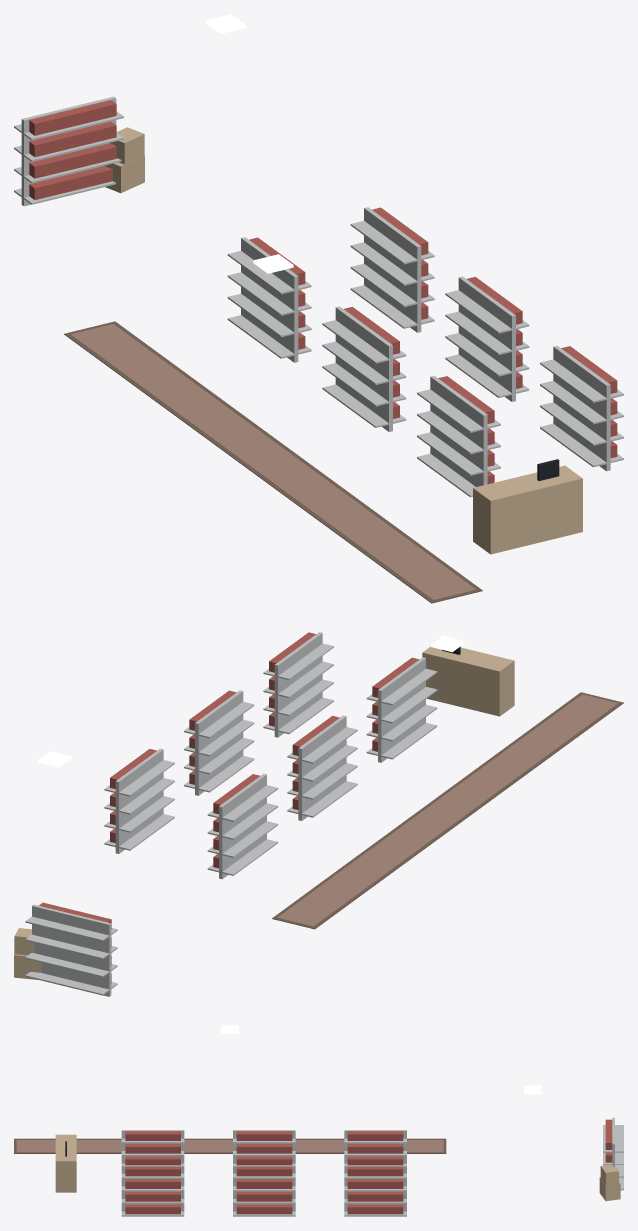
The model's file is fine-s0.glb.
3 renders of one model, top to bottom at view 1: azimuth 30°, elevation 25°; view 2: azimuth 150°, elevation 25°; view 3: azimuth 270°, elevation 25°, orthographic. The views are drawn at different scales.
Visible parts, largest first — view 1: soft-s0, shelving.000, shop-counter.000, shelf.003, shelf.004, shelf.001, shelf.005, shelf.002, shelf.000, cardboard-box.000; view 2: soft-s0, shelving.000, shelf.001, shelf.004, shelf.000, shelf.002, shelf.003, shelf.005, shop-counter.000, cardboard-box.000; view 3: soft-s0, shelf.005, shelf.003, shelf.004, shelf.002, shelf.000, shelf.001, shop-counter.000, shelving.000, cardboard-box.000.
Boxes of the visible parts, box(x1,y1,x2,y2) form: soft-s0: box(64, 321, 482, 603); shelving.000: box(14, 96, 123, 206); shop-counter.000: box(473, 459, 582, 554); shelf.003: box(350, 207, 434, 332); shelf.004: box(445, 276, 529, 401); shelf.001: box(322, 306, 406, 431); shelf.005: box(540, 345, 623, 471); shelf.002: box(417, 375, 500, 497); shelf.000: box(227, 237, 311, 362); cardboard-box.000: box(104, 127, 144, 193); soft-s0: box(272, 692, 623, 929); shelving.000: box(25, 902, 117, 996); shelf.001: box(287, 715, 357, 820); shelf.004: box(184, 690, 254, 795); shelf.000: box(207, 773, 278, 879); shelf.002: box(366, 657, 437, 762); shelf.003: box(104, 748, 174, 853); shelf.005: box(263, 632, 333, 737); shop-counter.000: box(422, 646, 514, 716); cardboard-box.000: box(14, 928, 40, 979); soft-s0: box(14, 1138, 446, 1153); shelf.005: box(121, 1165, 184, 1216); shelf.003: box(344, 1165, 406, 1216); shelf.004: box(233, 1165, 295, 1216); shelf.002: box(121, 1130, 184, 1165); shelf.000: box(344, 1130, 406, 1165); shelf.001: box(233, 1130, 295, 1165); shop-counter.000: box(55, 1134, 76, 1192); shelving.000: box(603, 1117, 623, 1190); cardboard-box.000: box(599, 1165, 620, 1201).
Size of the model in its own units: 5.54 by 3.73 by 17.54.
